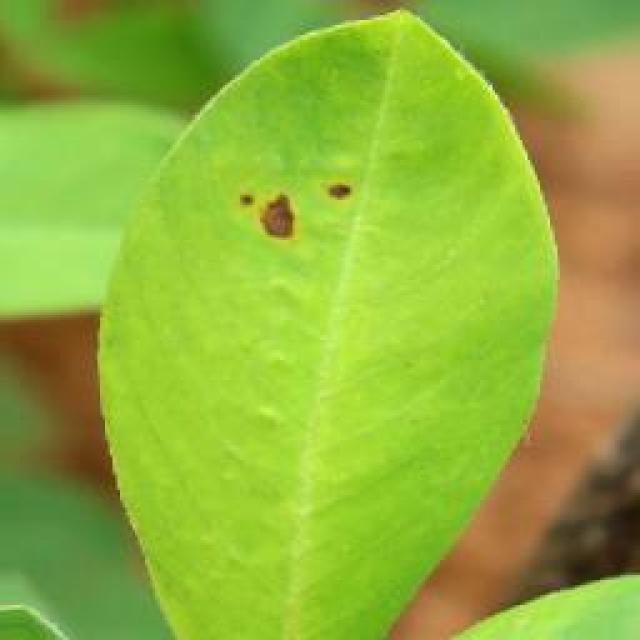Sigatoka: (211, 148, 382, 237)
